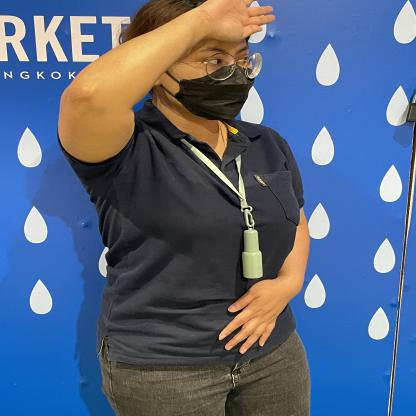Sick: (91, 0, 321, 54)
